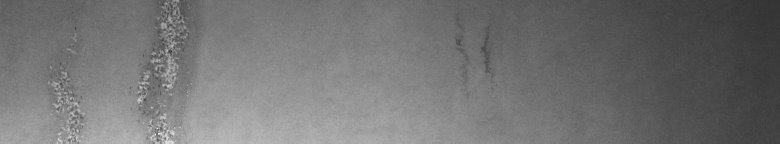hc: (47, 4, 190, 136)
